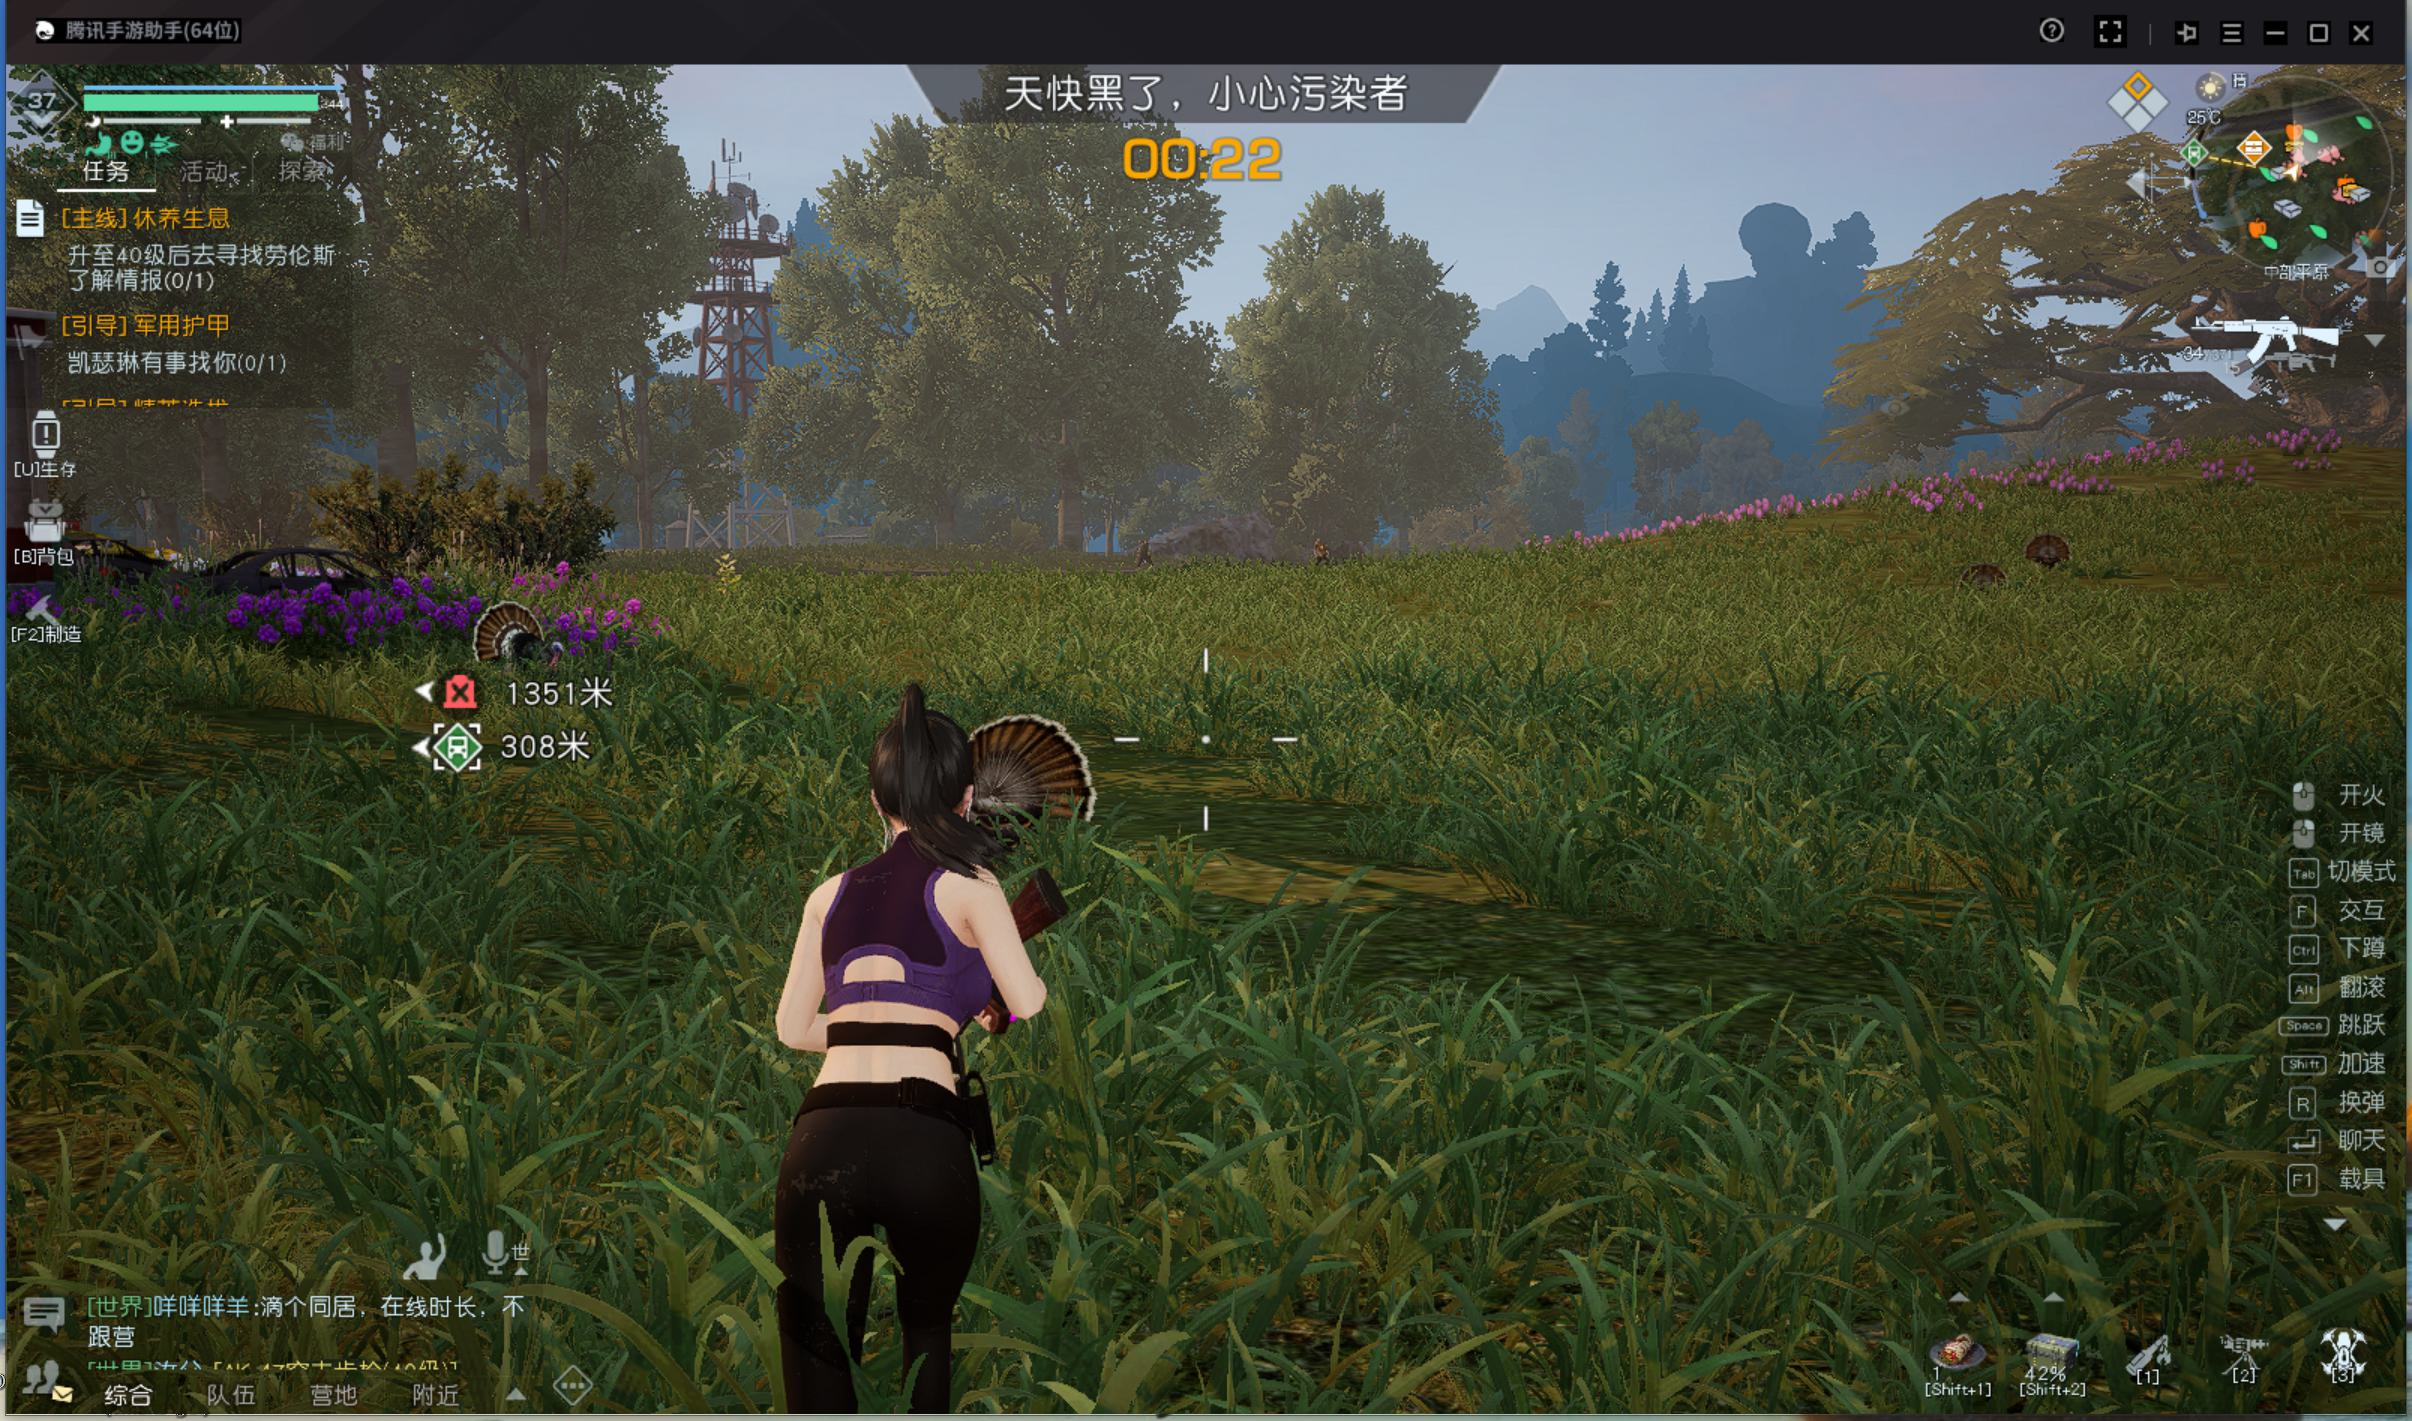tree: (367, 408, 431, 579), (518, 382, 570, 579), (628, 391, 670, 584), (1050, 440, 1088, 558)
